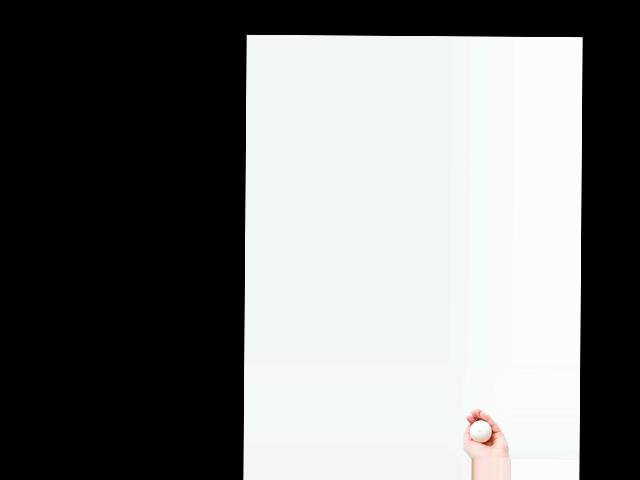egg: (470, 419, 491, 442)
